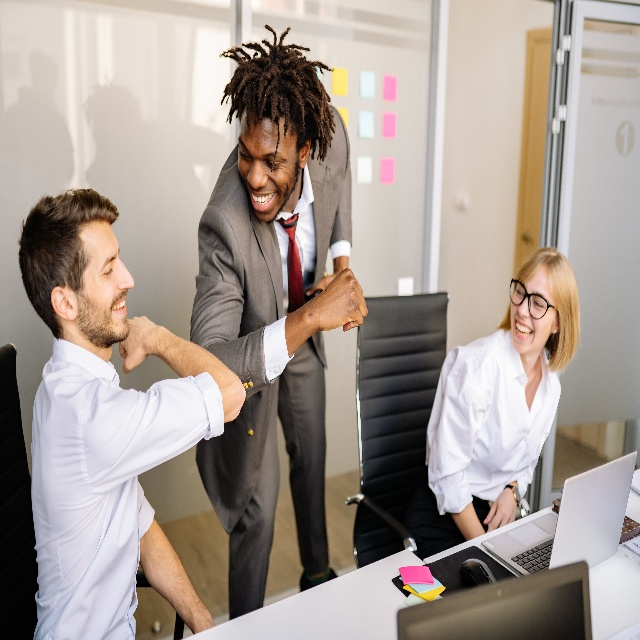Gafas: (510, 275, 558, 320)
Sin_guantes: (312, 267, 369, 332), (118, 315, 156, 374), (483, 486, 518, 536), (305, 272, 335, 296)
